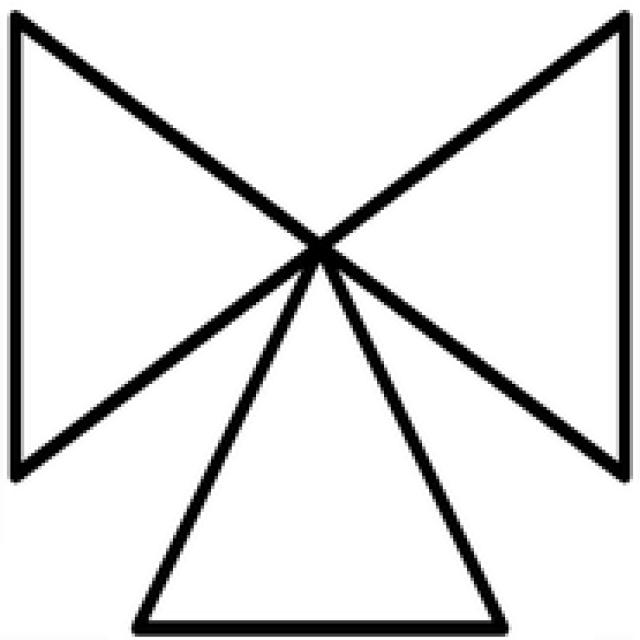3-way Valve: (319, 18, 626, 477), (12, 22, 318, 477), (138, 249, 502, 630)
